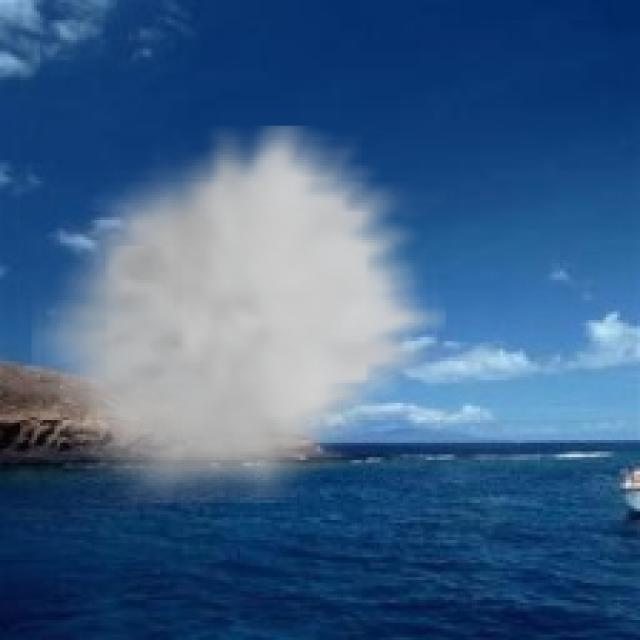smoke: (31, 126, 446, 503)
